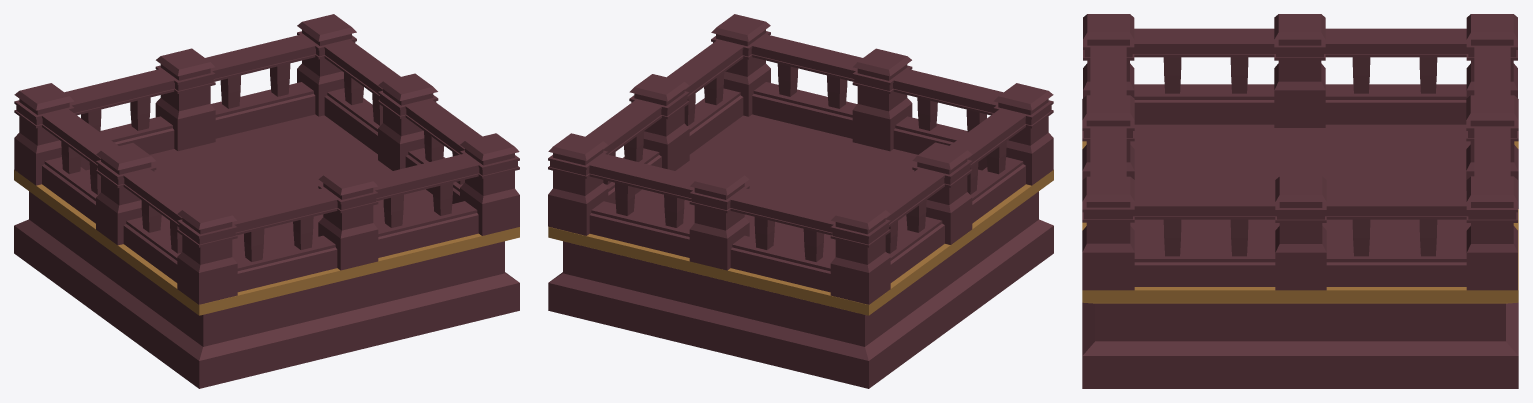
The model's file is SM_Statue_Stand_Big_Empire.fbx.
3 renders of one model, left to right at view 1: azimuth 30°, elevation 25°; view 2: azimuth 150°, elevation 25°; view 3: azimuth 270°, elevation 25°, orthographic. The views are drawn at different scales.
Visible parts, largest first — view 1: SM_Statue_Stand_Big_Empire; view 2: SM_Statue_Stand_Big_Empire; view 3: SM_Statue_Stand_Big_Empire.
Boxes of the visible parts, <box> form: SM_Statue_Stand_Big_Empire: <box>14,14,519,388</box>; SM_Statue_Stand_Big_Empire: <box>548,14,1053,388</box>; SM_Statue_Stand_Big_Empire: <box>1082,14,1518,388</box>.
Bounding box in the file's own units: 6.01 × 2.92 × 6.
